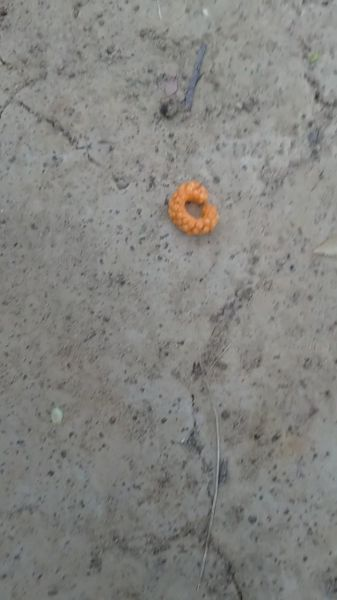eggs: (166, 175, 224, 237)
